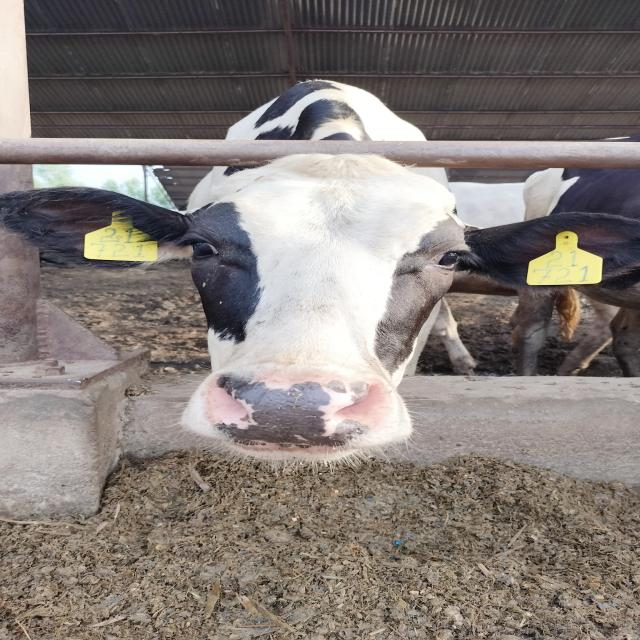muzzles: (198, 363, 402, 449)
